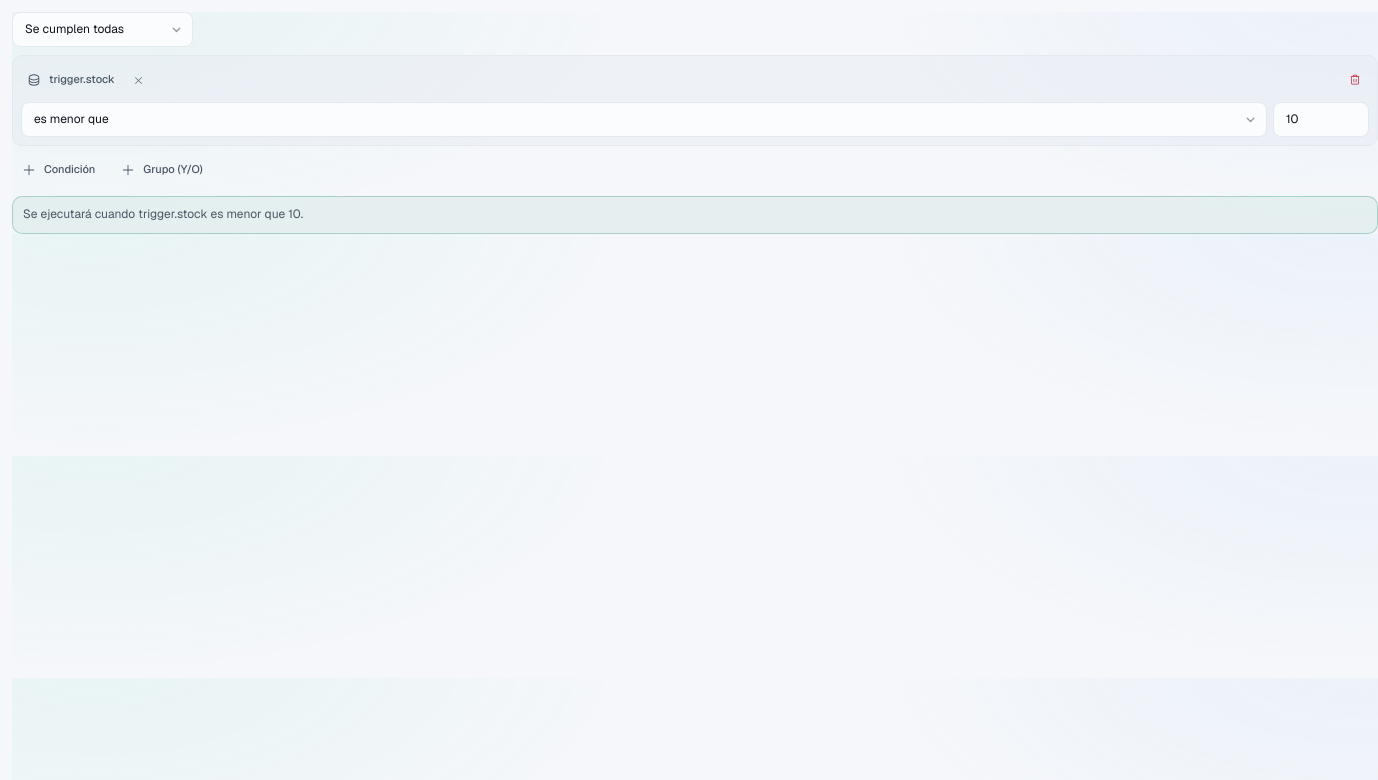
Test: ConditionBuilder › oculta el valor para operadores sin valor
Check: the field with test id "wf-cond-value-0" is shown, box x1=1273 y1=102 x2=1369 y2=137
Select "está vacío" in the dropdown with test id "wf-cond-operator-0": [644, 120] box x1=21 y1=102 x2=1267 y2=137
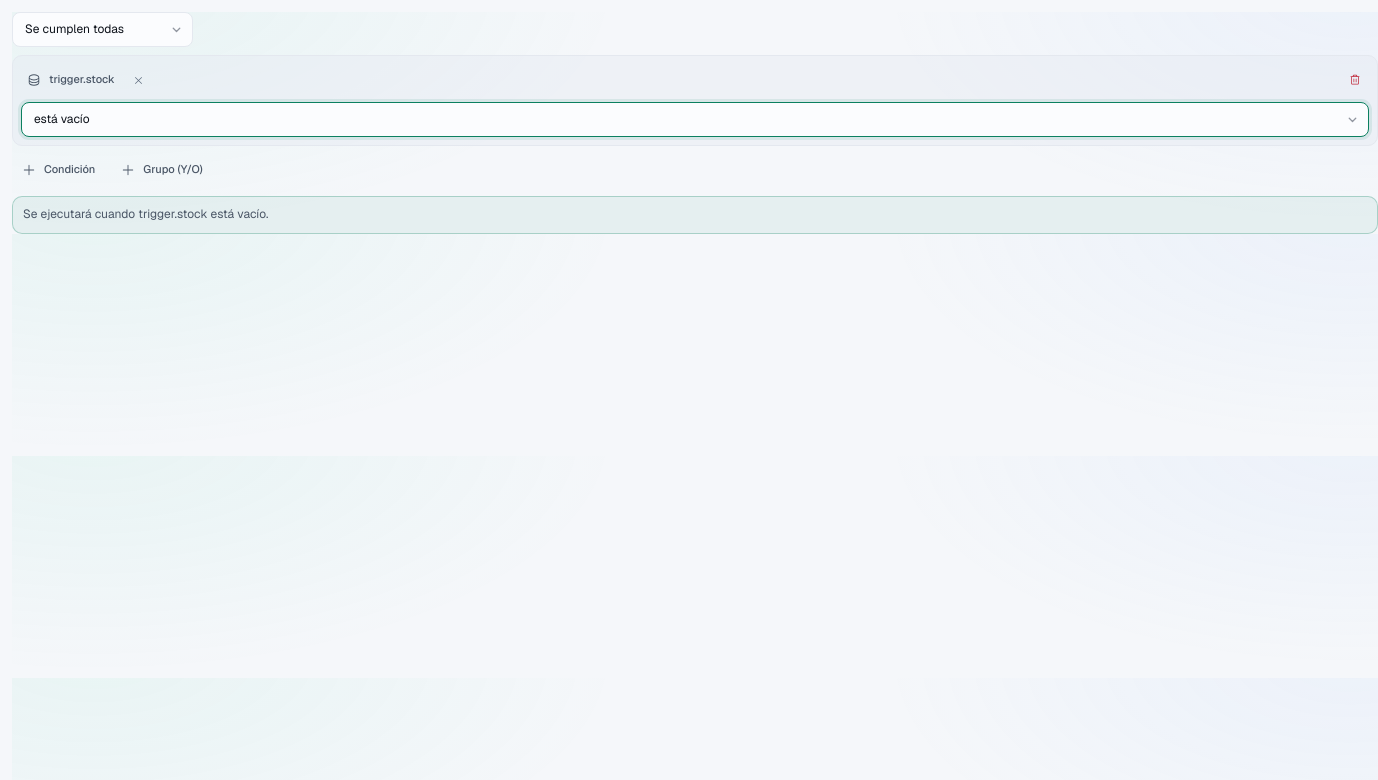
Check: the field with test id "wf-cond-value-0" is gone
